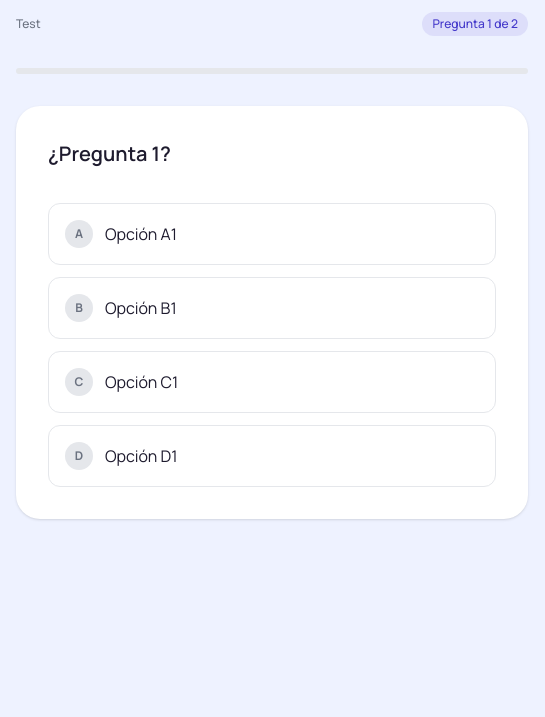
TestRunner › cuenta aciertos y fallos a lo largo de varias preguntas
Click the button with test id "opcion-a". click: (141, 234)
box: [48,202,496,264]
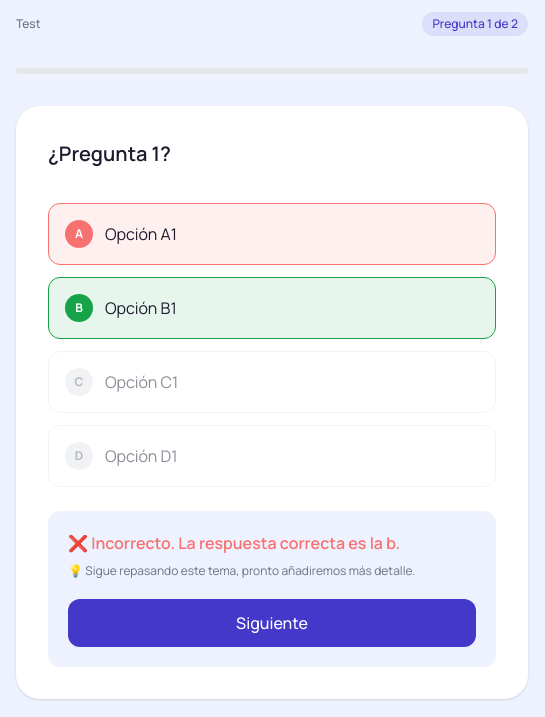
Check: the element with test id "feedback" is shown, box [48,510,496,666]
Check: the text "❌ Incorrecto. La respuesta correcta es la b." is shown, box [68,532,400,554]
Check: the text "💡 Sigue repasando este tema, pronto añadiremos más detalle." is shown, box [68,562,476,578]
Click the button with test id "siguiente". click: (272, 622)
box: [68,598,476,646]
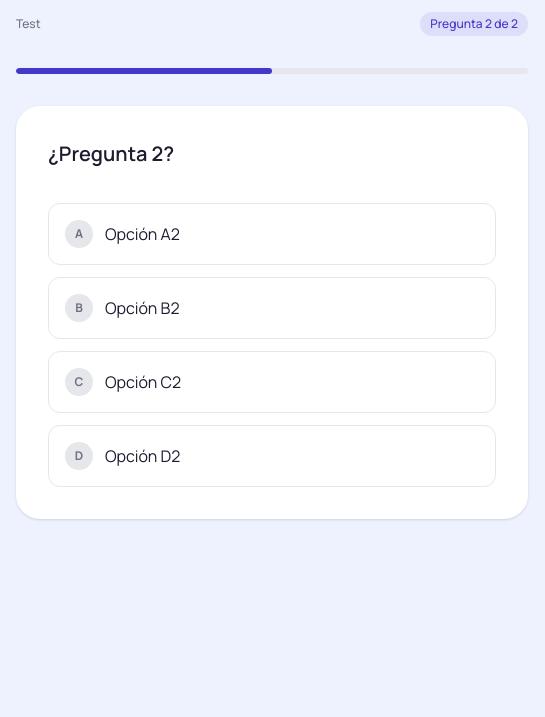
Click the button with test id "opcion-a". click: (142, 234)
box: [48,202,496,264]
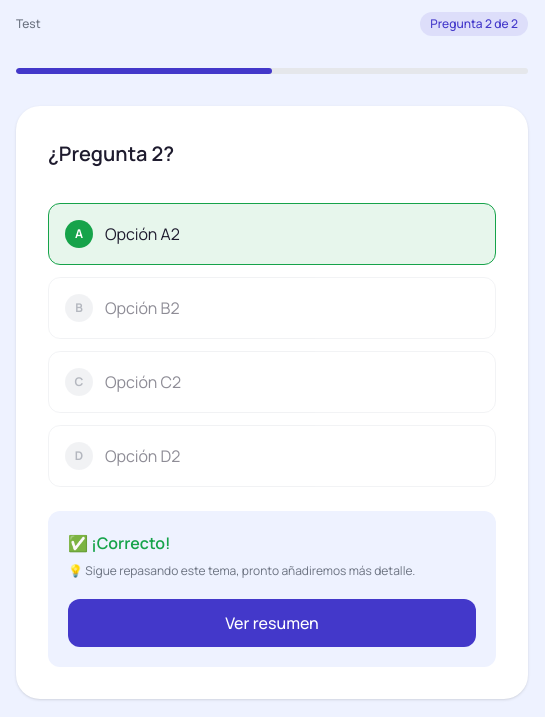
Check: the element with test id "feedback" is shown, box [48,510,496,666]
Click the button with test id "siguiente". click: (272, 622)
box: [68,598,476,646]
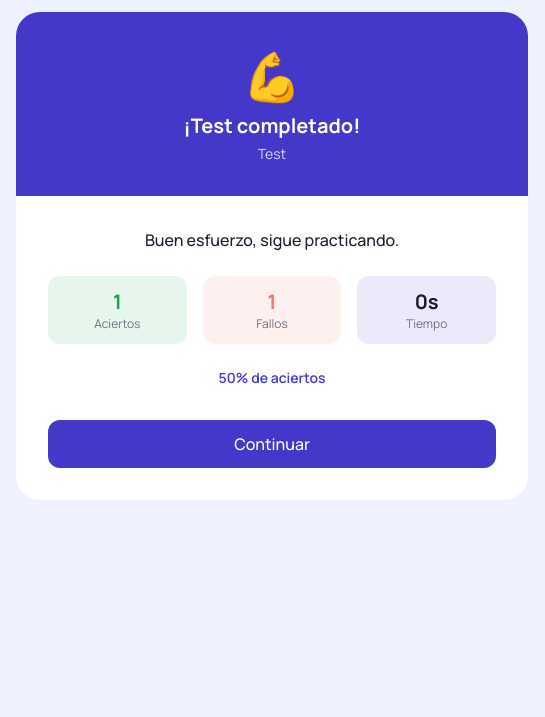
Check: the text with test id "resumen-aciertos" reads "1", box [113,288,122,315]
Check: the text with test id "resumen-fallos" reads "1", box [268,288,276,315]
